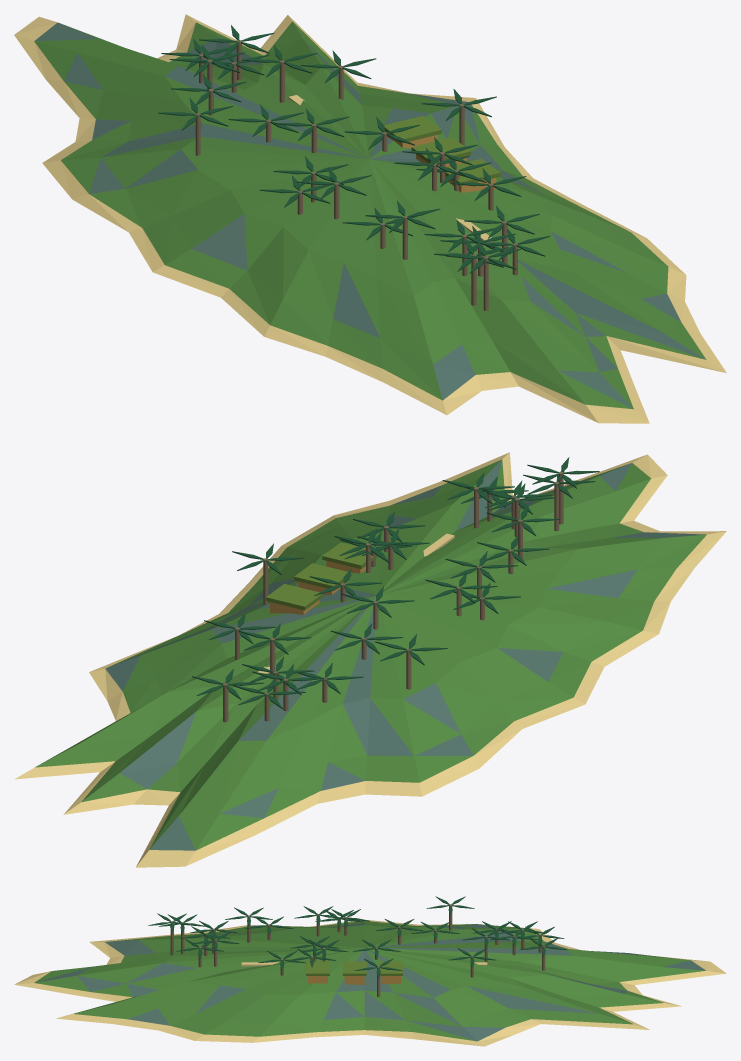
The model's file is island.glb.
3 views of the same model, one above another, from view 1: azimuth 30°, elevation 25°; view 2: azimuth 150°, elevation 25°; view 3: azimuth 270°, elevation 25° (orthographic). The views are drawn at different scales.
Parts seen in each view (by area): view 1: island-island-geometry; view 2: island-island-geometry; view 3: island-island-geometry.
Part boxes in pixels (left/top/right/bottom): island-island-geometry: left=14, top=14, right=726, bottom=423; island-island-geometry: left=15, top=452, right=726, bottom=867; island-island-geometry: left=14, top=896, right=726, bottom=1046.
Size of the model in its own units: 4.55 by 0.8795 by 10.73.
